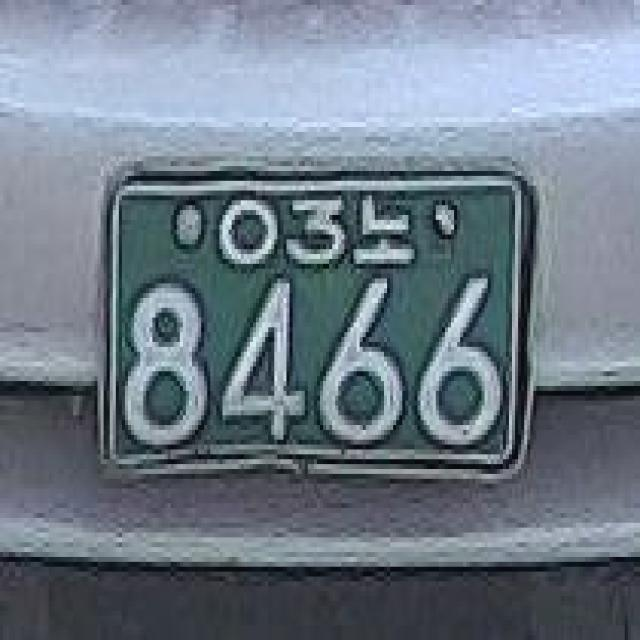illegal_plate: (91, 146, 542, 502)
